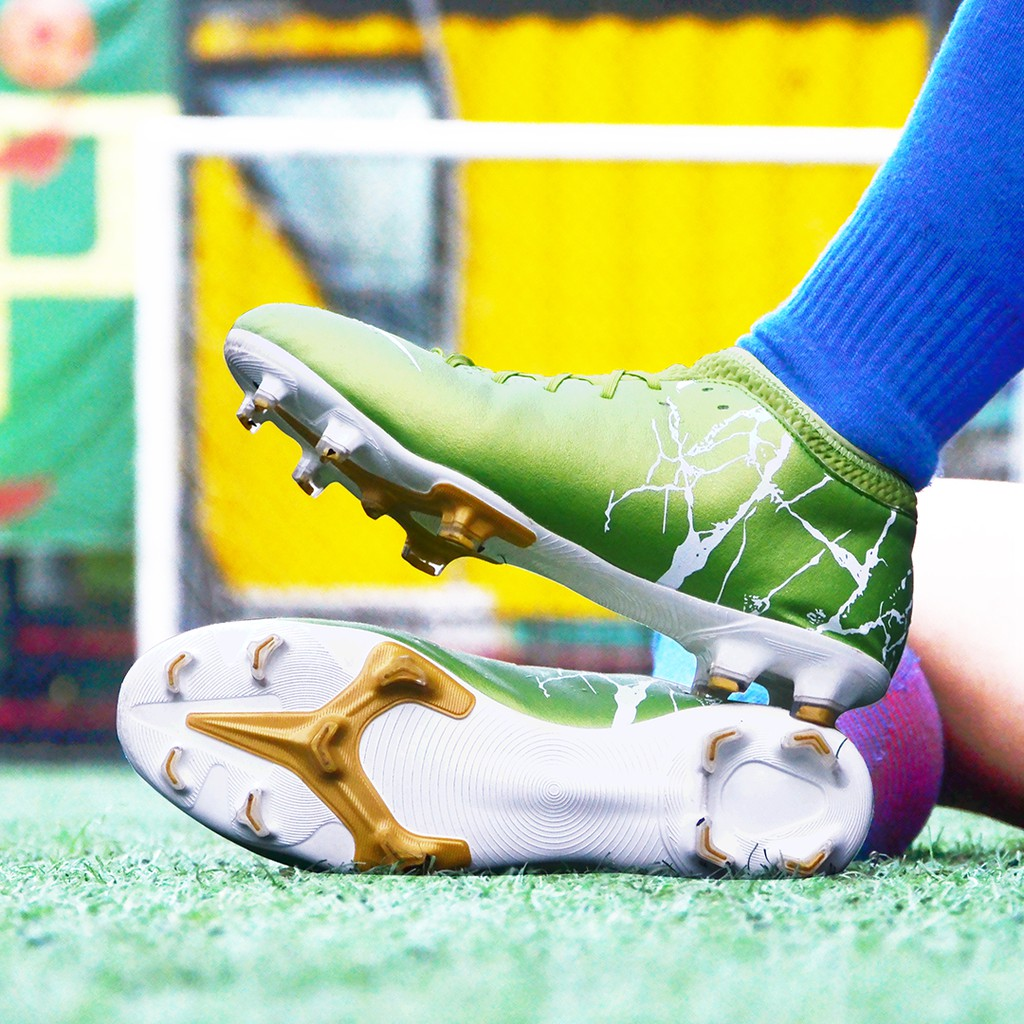soccer shoes: (223, 299, 918, 724), (116, 614, 876, 878)
